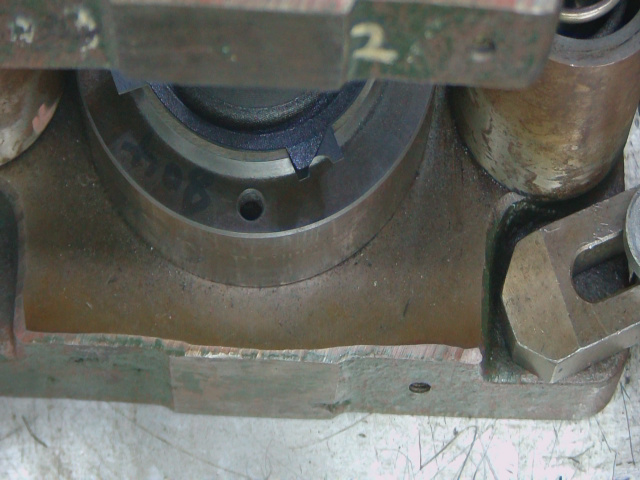NG: (285, 125, 353, 188)
